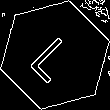L_NE: (26, 26, 84, 84)
